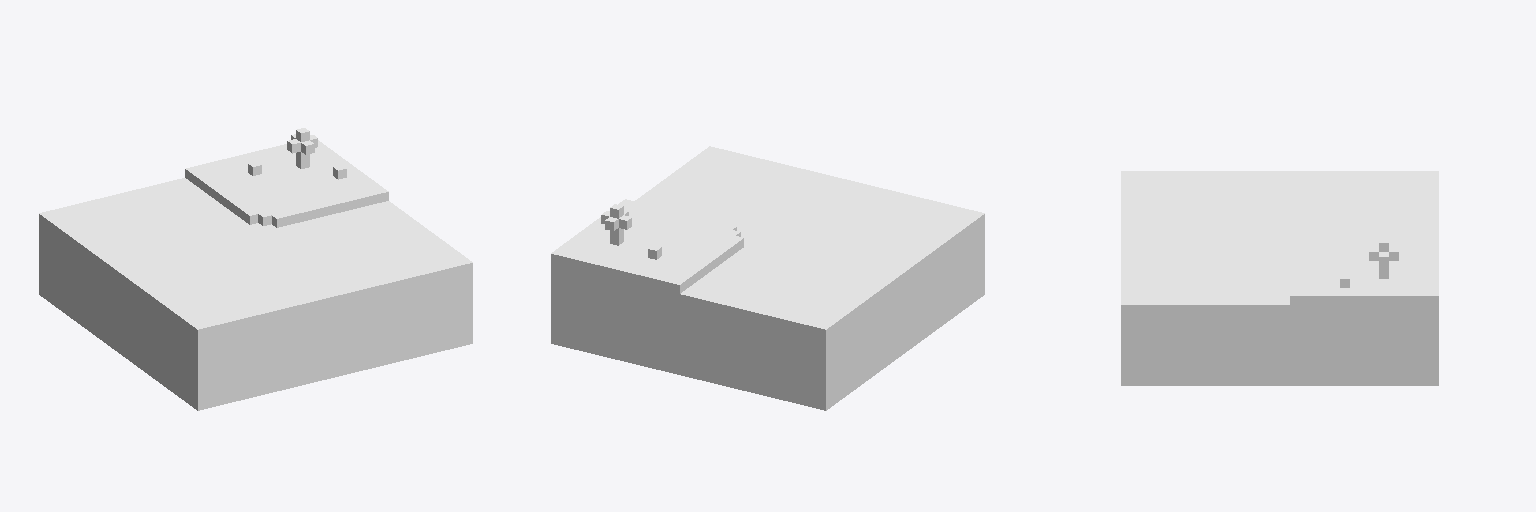
The model's file is SeaShoreCornerTile.obj.
3 views of the same model, side by side, from view 1: azimuth 30°, elevation 25°; view 2: azimuth 150°, elevation 25°; view 3: azimuth 270°, elevation 25° (orthographic).
Visible parts, largest first — view 1: object 1; view 2: object 1; view 3: object 1.
Boxes of the visible parts, box(x1,y1,x2,y2) form: object 1: box(39, 128, 472, 410); object 1: box(551, 146, 984, 410); object 1: box(1121, 171, 1438, 385).
Size of the model in its own units: 3.2 by 1.4 by 3.2.